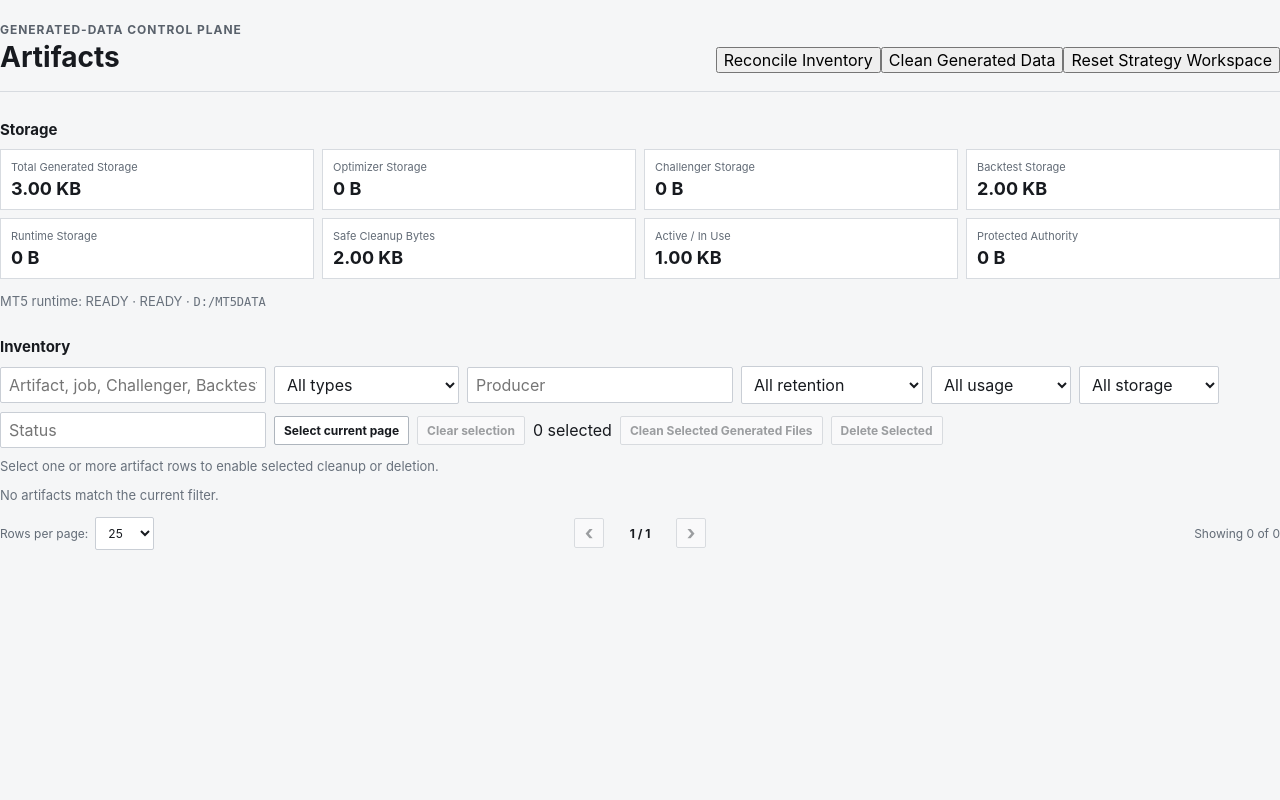
Scenario: M08 Artifacts workspace › explains reset blockers and keeps destructive confirmation disabled
Click the button "Reset Strategy Workspace". click: (1172, 60)
box: x1=1063 y1=47 x2=1279 y2=73
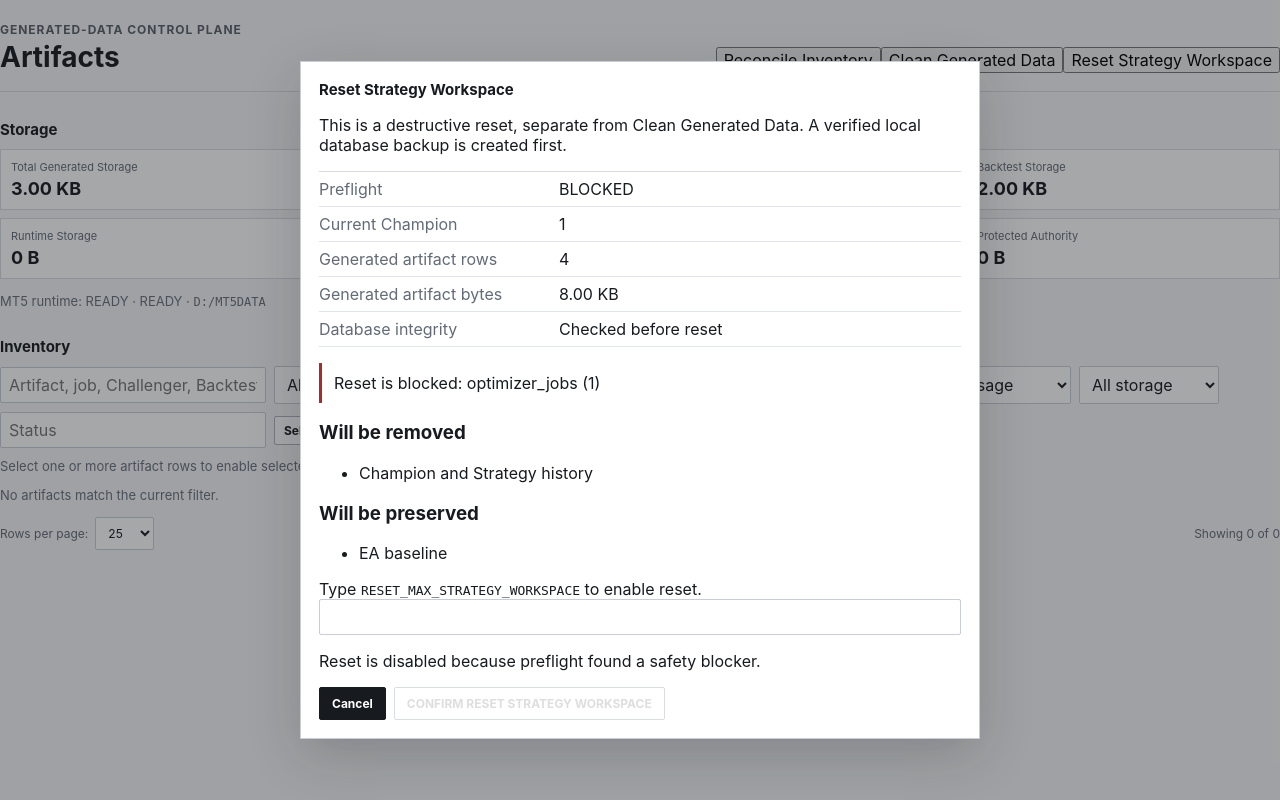
Check: the dialog "Reset Strategy Workspace" shows "Reset is blocked: optimizer_jobs (1)", box x1=300 y1=61 x2=980 y2=740
Check: the dialog "Reset Strategy Workspace" shows "Will be removed", box x1=319 y1=421 x2=466 y2=444
Check: the dialog "Reset Strategy Workspace" shows "Will be preserved", box x1=319 y1=502 x2=479 y2=525
